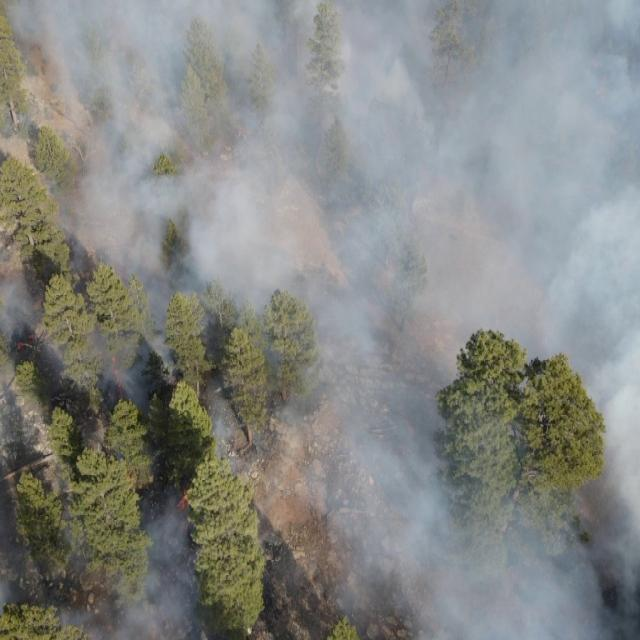fire: (112, 351, 124, 402), (174, 487, 194, 515), (13, 330, 32, 354), (596, 72, 610, 100)
smoke: (0, 0, 640, 640)
